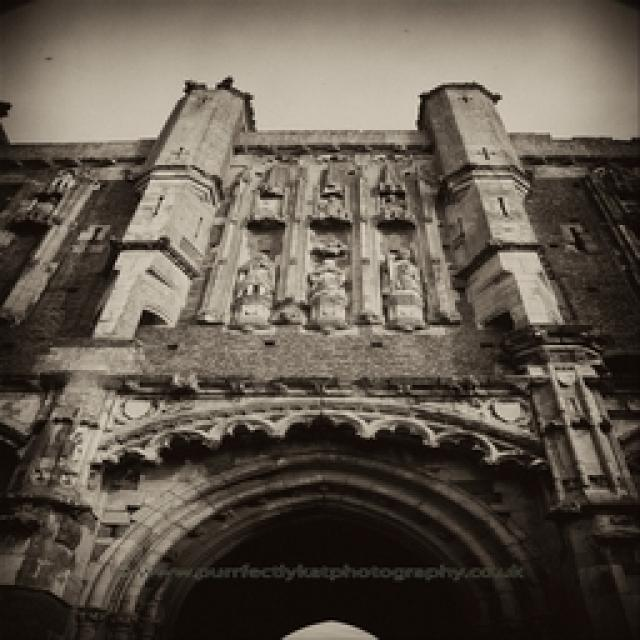Abbey: (104, 69, 621, 640)
